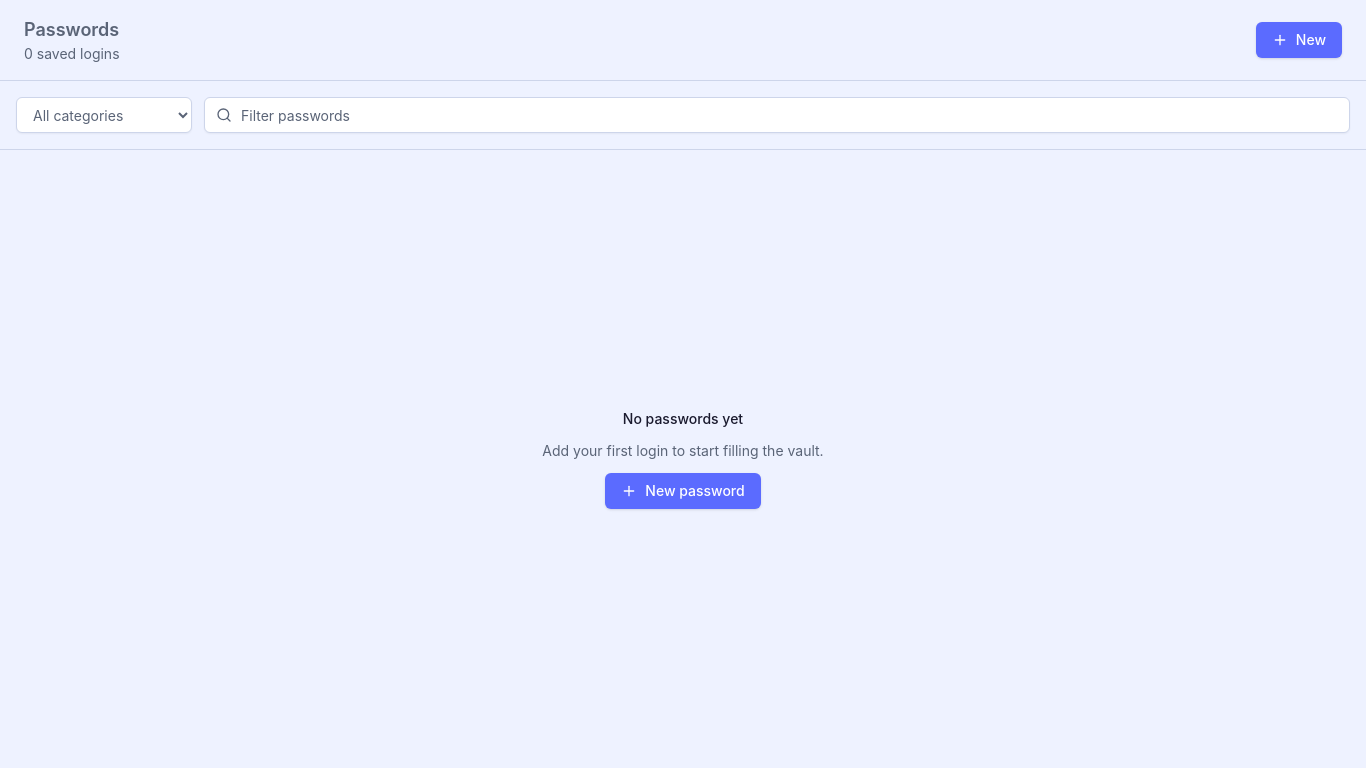
Test: PasswordsListView › shows a validation error and does not save when the form is invalid
What coordinates should you click on to do the following:
click the button "New"
I would click on:
 (1299, 40)
Its box is [1256,22,1342,58].
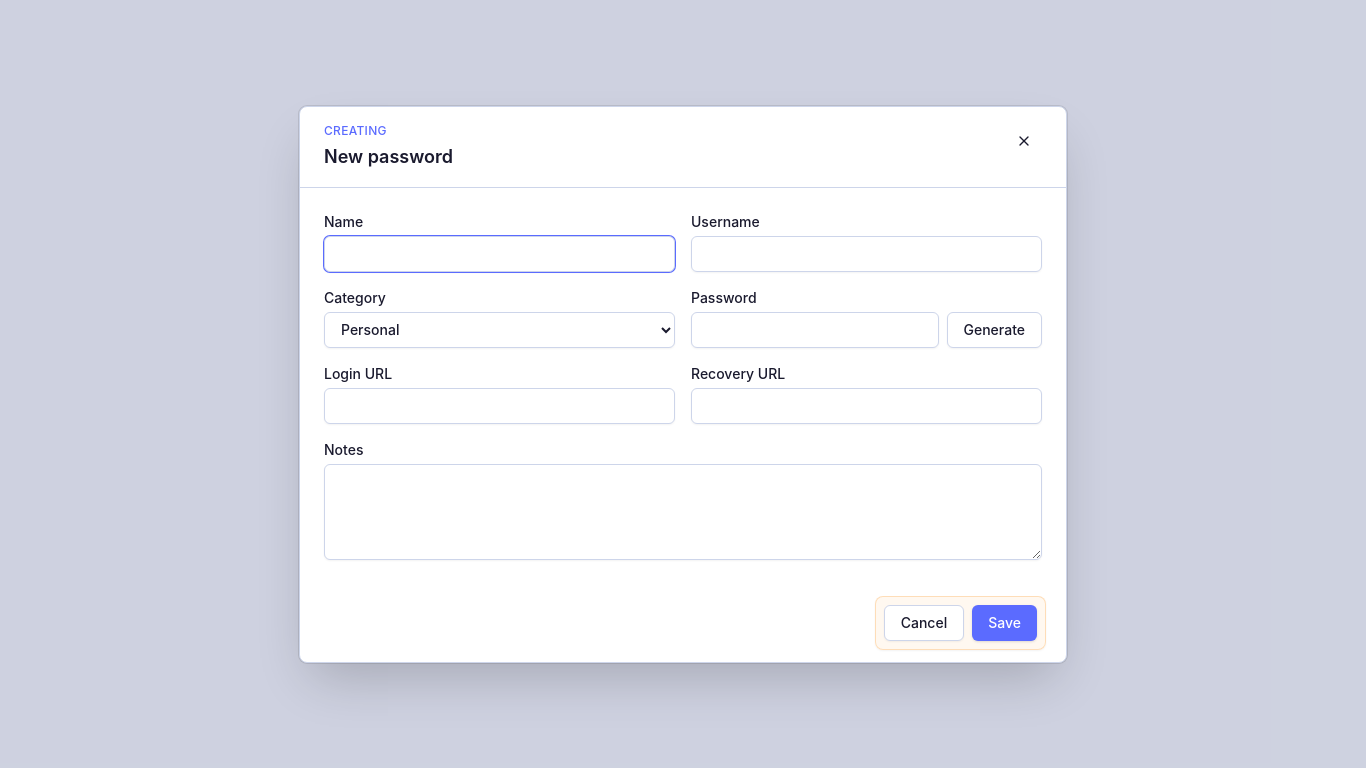
What coordinates should you click on to do the following:
click the button "Save"
I would click on:
 (1005, 622)
Its box is [972,604,1037,640].
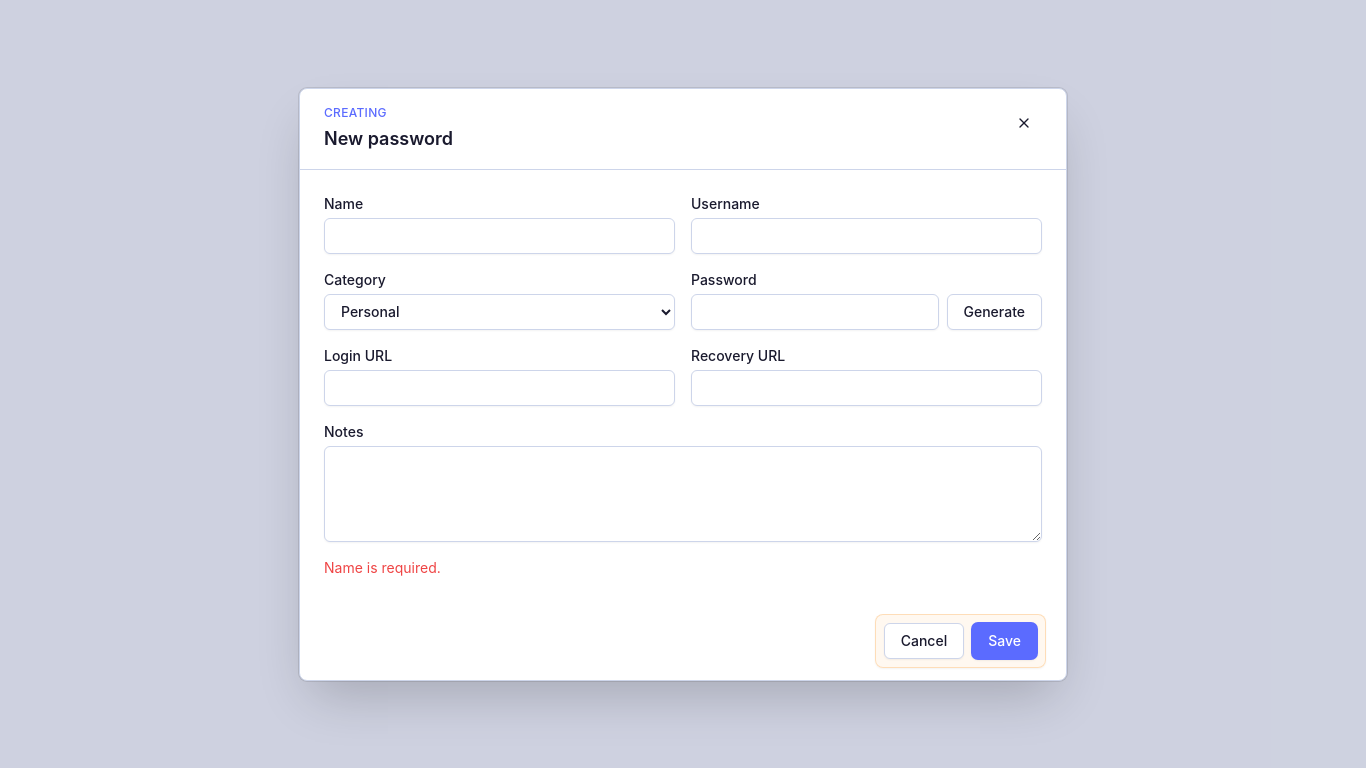
Result: the text "Name is required." is shown at [324,558,441,576]
